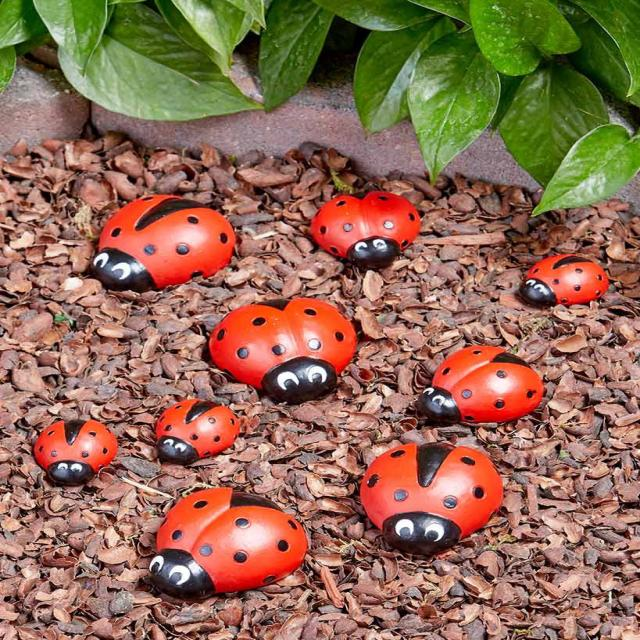ladybug: (149, 488, 308, 596), (359, 443, 502, 554), (209, 298, 357, 403), (91, 195, 235, 291), (419, 346, 543, 424), (310, 191, 420, 269), (33, 420, 118, 484), (156, 399, 238, 463), (519, 255, 609, 305)
